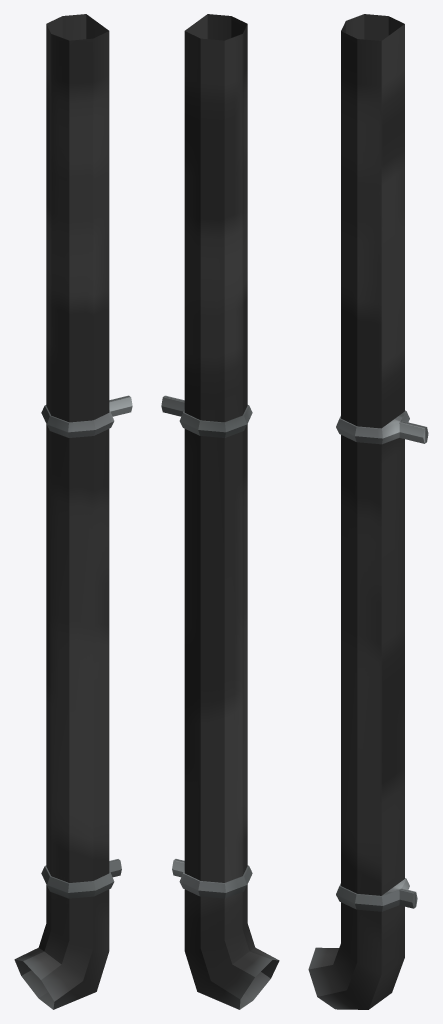
File: Tube_Grey.glb
3 renders of one model, left to right at view 1: azimuth 30°, elevation 25°; view 2: azimuth 150°, elevation 25°; view 3: azimuth 330°, elevation 25°, orthographic.
Parts seen in each view (by area): view 1: tube_gray; view 2: tube_gray; view 3: tube_gray.
Boxes of the visible parts, x1=… form: tube_gray: x1=14, y1=14, x2=132, y2=1009; tube_gray: x1=161, y1=14, x2=279, y2=1009; tube_gray: x1=308, y1=14, x2=428, y2=1009.
Size of what is drawn, in the model's own units: 0.5849 by 5.04 by 0.3357.
1 material, 1 textured.
